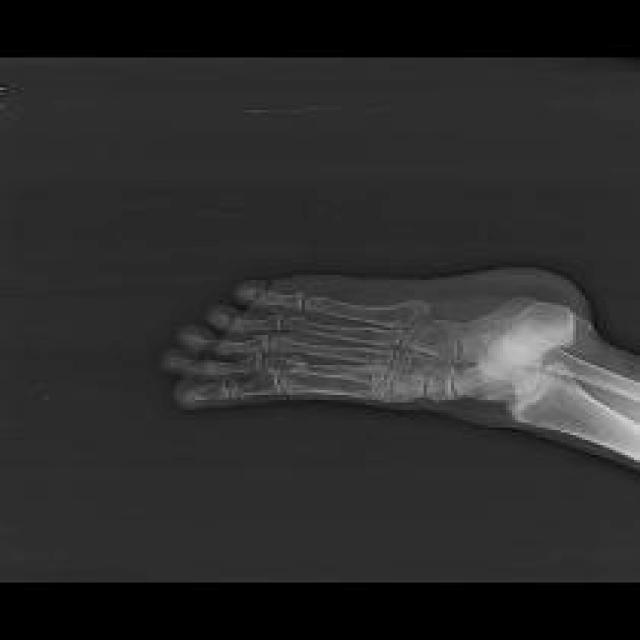normal: (165, 280, 638, 461)
